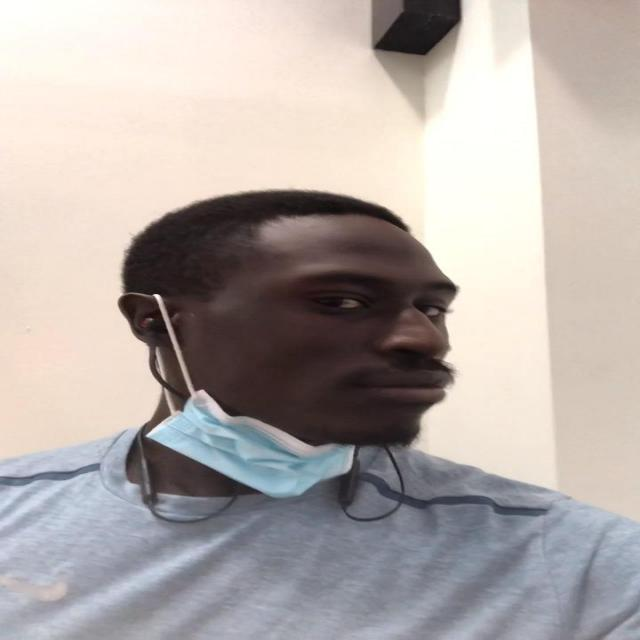face: (149, 225, 463, 499)
